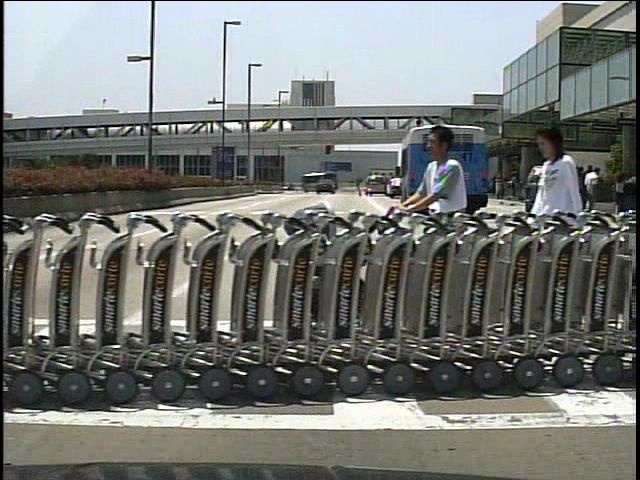person: (387, 122, 484, 365), (524, 116, 593, 328), (583, 165, 603, 215), (580, 163, 597, 216), (356, 176, 364, 196)
